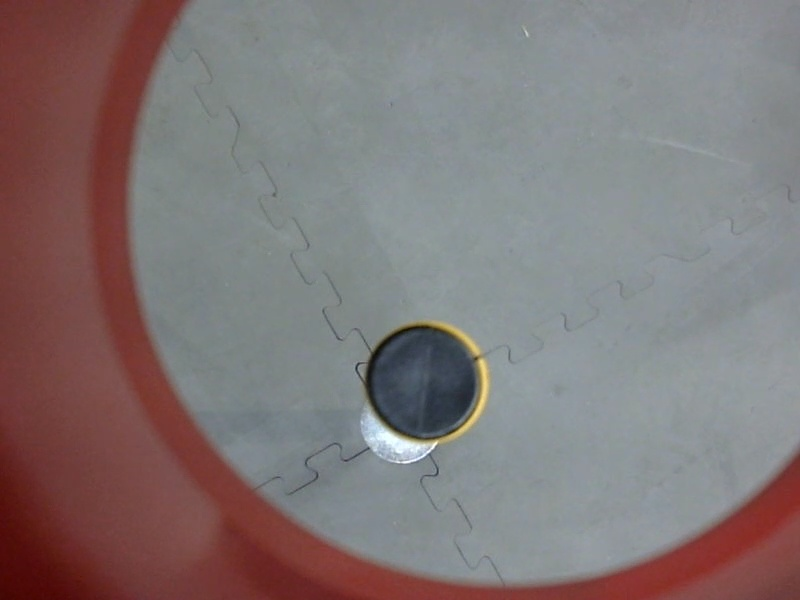tip: (352, 313, 498, 455)
